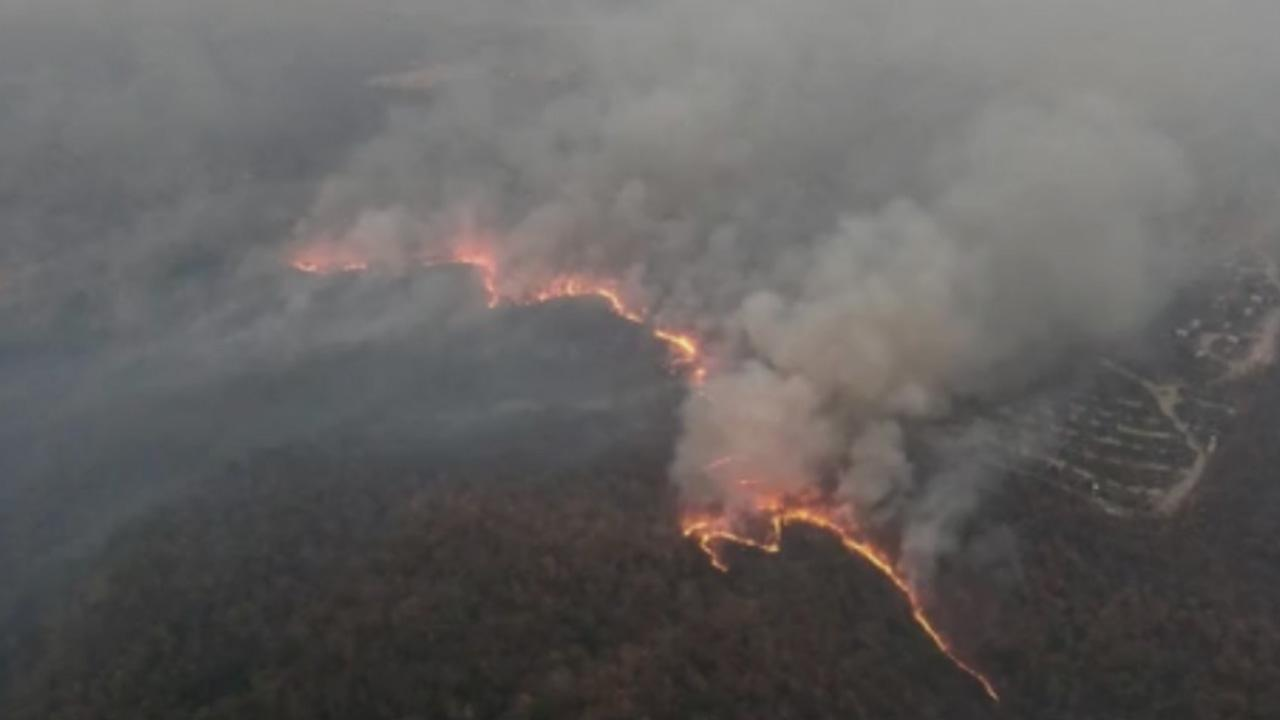fire: (286, 150, 1157, 707), (639, 397, 938, 600), (882, 564, 1087, 719), (564, 231, 749, 383), (373, 208, 562, 310), (219, 180, 351, 303)
